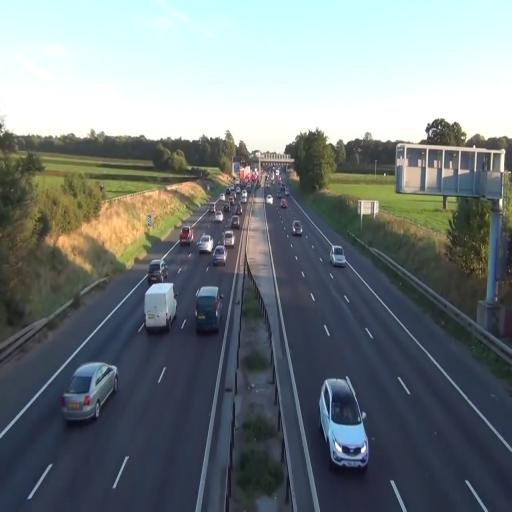vehicle: (318, 375, 370, 470), (60, 362, 119, 424), (144, 282, 177, 332), (194, 285, 222, 334), (198, 232, 214, 254), (330, 245, 345, 266), (212, 244, 226, 265), (224, 228, 235, 248), (292, 220, 302, 237), (280, 197, 288, 209)
